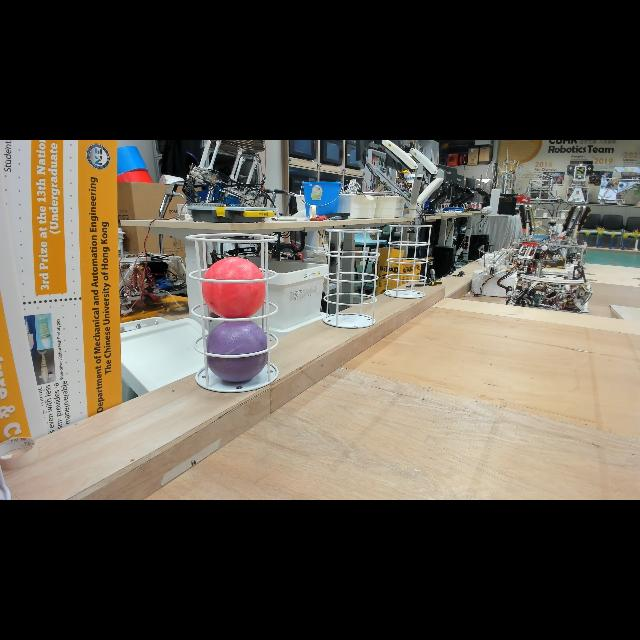P: (202, 320, 270, 382)
R: (202, 257, 268, 321)
S: (185, 232, 279, 394), (322, 228, 383, 330), (383, 224, 433, 300)
